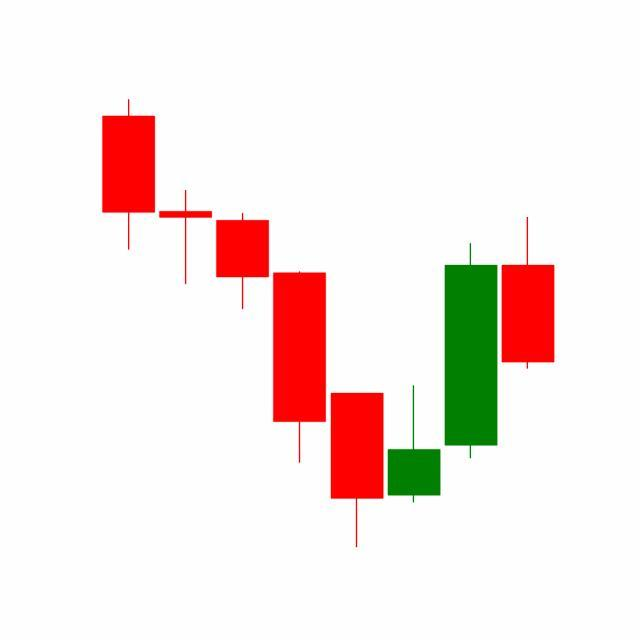Three Inside Up-Down: (328, 239, 500, 548)
